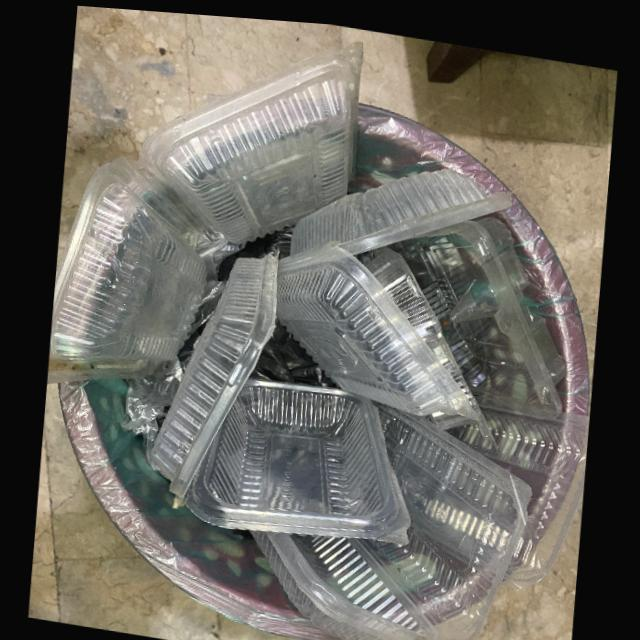plastic: (46, 34, 363, 381), (148, 246, 410, 539), (248, 395, 531, 640), (277, 161, 512, 414), (356, 207, 565, 410)
